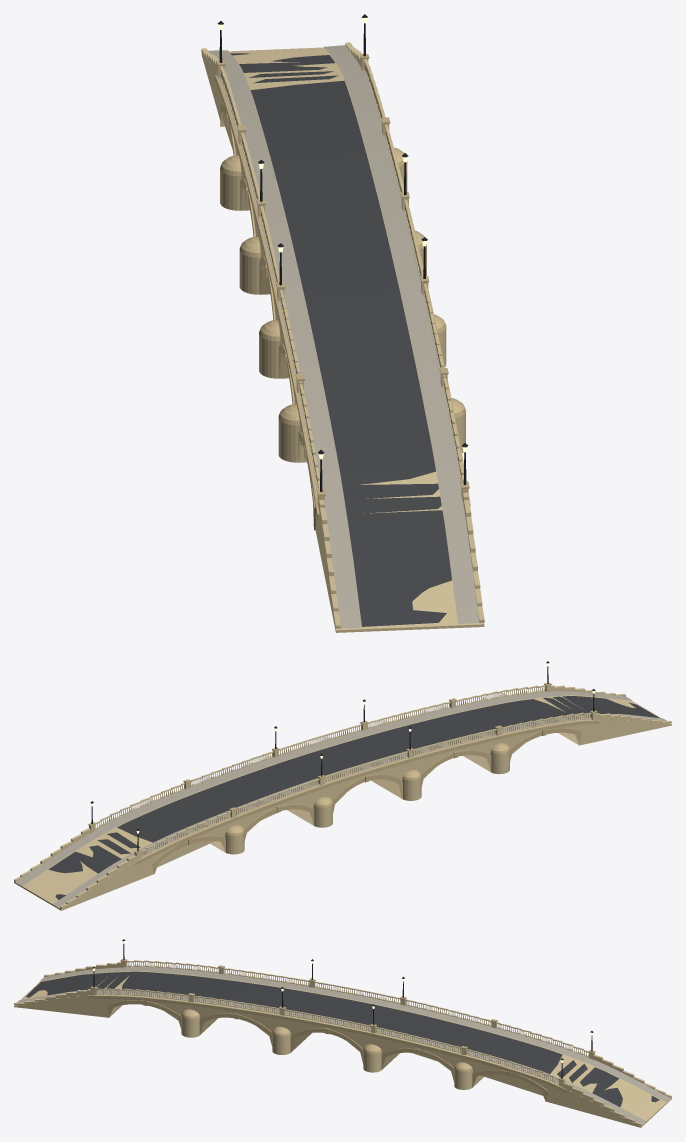
The model's file is serpentine_bridge.glb.
3 views of the same model, one above another, from view 1: azimuth 30°, elevation 25°; view 2: azimuth 150°, elevation 25°; view 3: azimuth 270°, elevation 25° (orthographic). The views are drawn at different scales.
Size of the model in its own units: 61.46 by 13.83 by 115.
